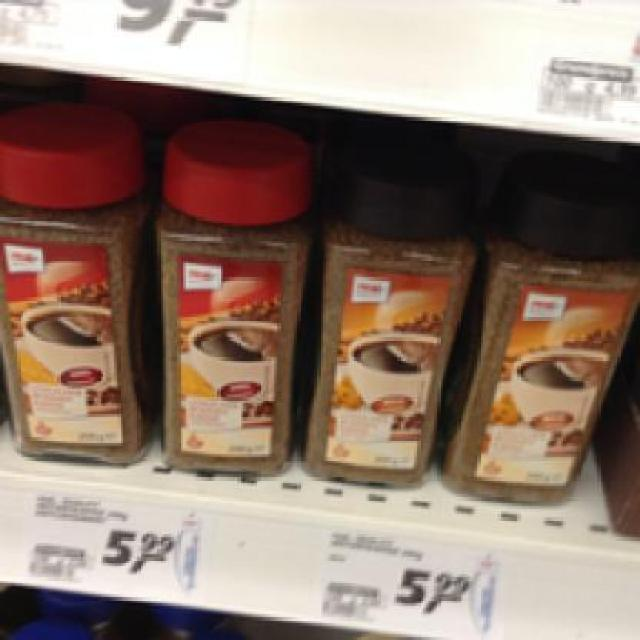Coffee: (448, 143, 638, 503), (302, 128, 475, 486), (152, 112, 318, 474), (0, 96, 155, 469)
